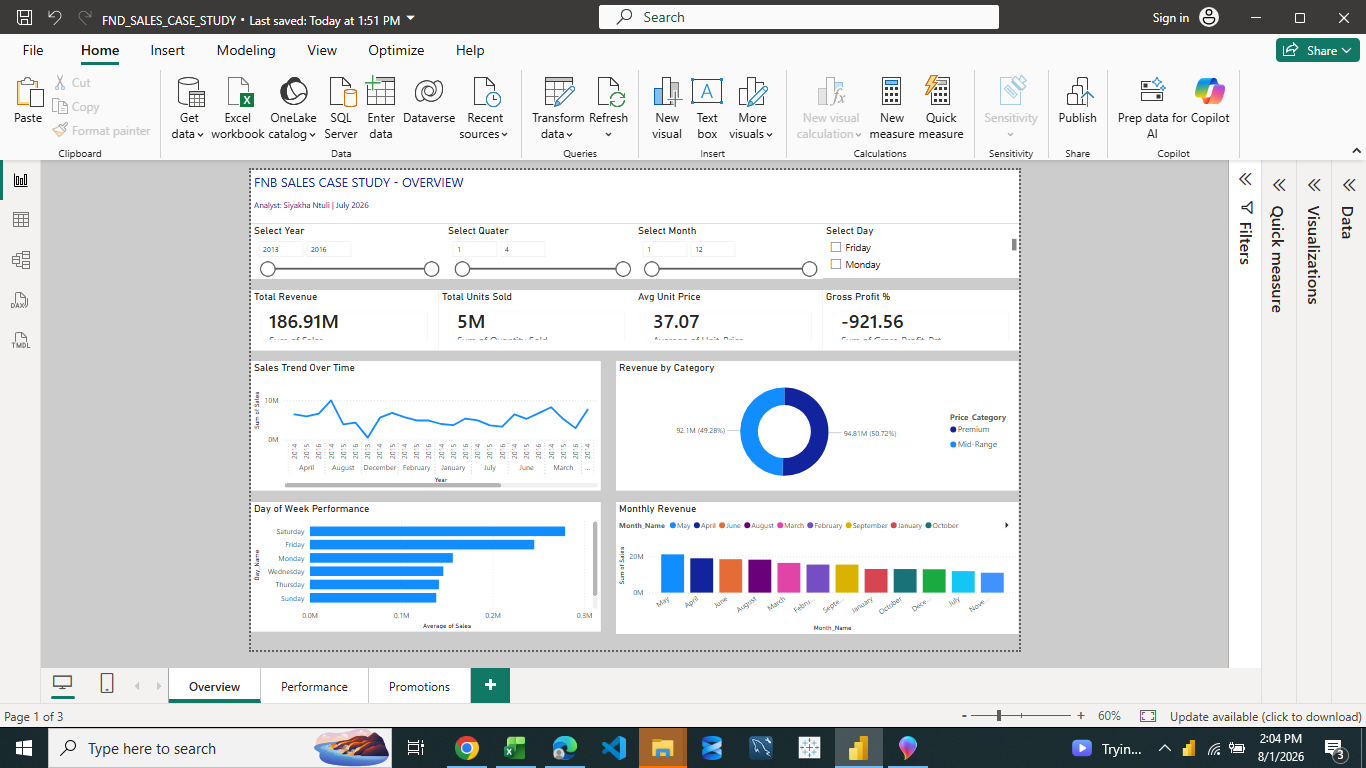

What the dashboard file says about the page in this screenshot:
{"tool":"powerbi","page":{"name":"Overview","canvas":[1280,800],"ordinal":0},"visuals":[{"type":"textbox","box":[0,0,1280,88.8],"z":0},{"type":"slicer","title":"Select Year","fields":{"Values":["FNB_POWER__BI (1).Year"]},"box":[0,90,322.5,90],"z":1},{"type":"slicer","title":"Select Quater","fields":{"Values":["FNB_POWER__BI (1).Quarter"]},"box":[322.5,90,317.5,90],"z":2},{"type":"slicer","title":"Select Month","fields":{"Values":["FNB_POWER__BI (1).Month"]},"box":[640,90,312.5,90],"z":3},{"type":"slicer","title":"Select Day","fields":{"Values":["FNB_POWER__BI (1).Day_Name"]},"box":[952.5,90,327.5,90],"z":4},{"type":"cardVisual","title":"Total Revenue","fields":{"Data":["Sum(FNB_POWER__BI (1).Sales)"]},"box":[0,200,312.5,101.2],"z":5},{"type":"cardVisual","title":"Total Units Sold","fields":{"Data":["Sum(FNB_POWER__BI (1).Quantity Sold)"]},"box":[312.5,200,327.5,101.2],"z":6},{"type":"cardVisual","title":"Avg Unit Price","fields":{"Data":["Avg(FNB_POWER__BI (1).Unit_Price)"]},"box":[640,200,312.5,101.2],"z":7},{"type":"cardVisual","title":"Gross Profit %","fields":{"Data":["Sum(FNB_POWER__BI (1).Gross_Profit_Pct)"]},"box":[952.5,200,327.5,101.2],"z":8},{"type":"lineChart","title":"Sales Trend Over Time","fields":{"Y":["Sum(FNB_POWER__BI (1).Sales)"],"Category":["FNB_POWER__BI (1).Month_Name","FNB_POWER__BI (1).Date.Variation.Date Hierarchy.Year"]},"box":[0,318.8,582.5,216.2],"z":9},{"type":"columnChart","title":"Monthly Revenue","fields":{"Category":["FNB_POWER__BI (1).Month_Name"],"Y":["Sum(FNB_POWER__BI (1).Sales)"],"Series":["FNB_POWER__BI (1).Month_Name"]},"box":[608.8,552.5,671.2,220],"z":10},{"type":"clusteredBarChart","title":"Day of Week Performance","fields":{"Category":["FNB_POWER__BI (1).Day_Name"],"Y":["Avg(FNB_POWER__BI (1).Sales)"]},"box":[0,552.5,582.5,216.2],"z":11},{"type":"donutChart","title":"Revenue by Category","fields":{"Category":["FNB_POWER__BI (1).Price_Category"],"Y":["Sum(FNB_POWER__BI (1).Sales)"]},"box":[608.8,318.8,671.2,216.2],"z":12}]}

Visuals, with their boxes on the page's 1280x800 design canvas (x1, y1, x2, y2). These are canvas units, not pixel positions in the 1366x768 screenshot, which may show the page scaled, cropped or inside an application window:
textbox: x1=0 y1=0 x2=1280 y2=89
"Select Year" slicer: x1=0 y1=90 x2=322 y2=180
"Select Quater" slicer: x1=322 y1=90 x2=640 y2=180
"Select Month" slicer: x1=640 y1=90 x2=952 y2=180
"Select Day" slicer: x1=952 y1=90 x2=1280 y2=180
"Total Revenue" cardVisual: x1=0 y1=200 x2=312 y2=301
"Total Units Sold" cardVisual: x1=312 y1=200 x2=640 y2=301
"Avg Unit Price" cardVisual: x1=640 y1=200 x2=952 y2=301
"Gross Profit %" cardVisual: x1=952 y1=200 x2=1280 y2=301
"Sales Trend Over Time" lineChart: x1=0 y1=319 x2=582 y2=535
"Monthly Revenue" columnChart: x1=609 y1=552 x2=1280 y2=772
"Day of Week Performance" clusteredBarChart: x1=0 y1=552 x2=582 y2=769
"Revenue by Category" donutChart: x1=609 y1=319 x2=1280 y2=535
